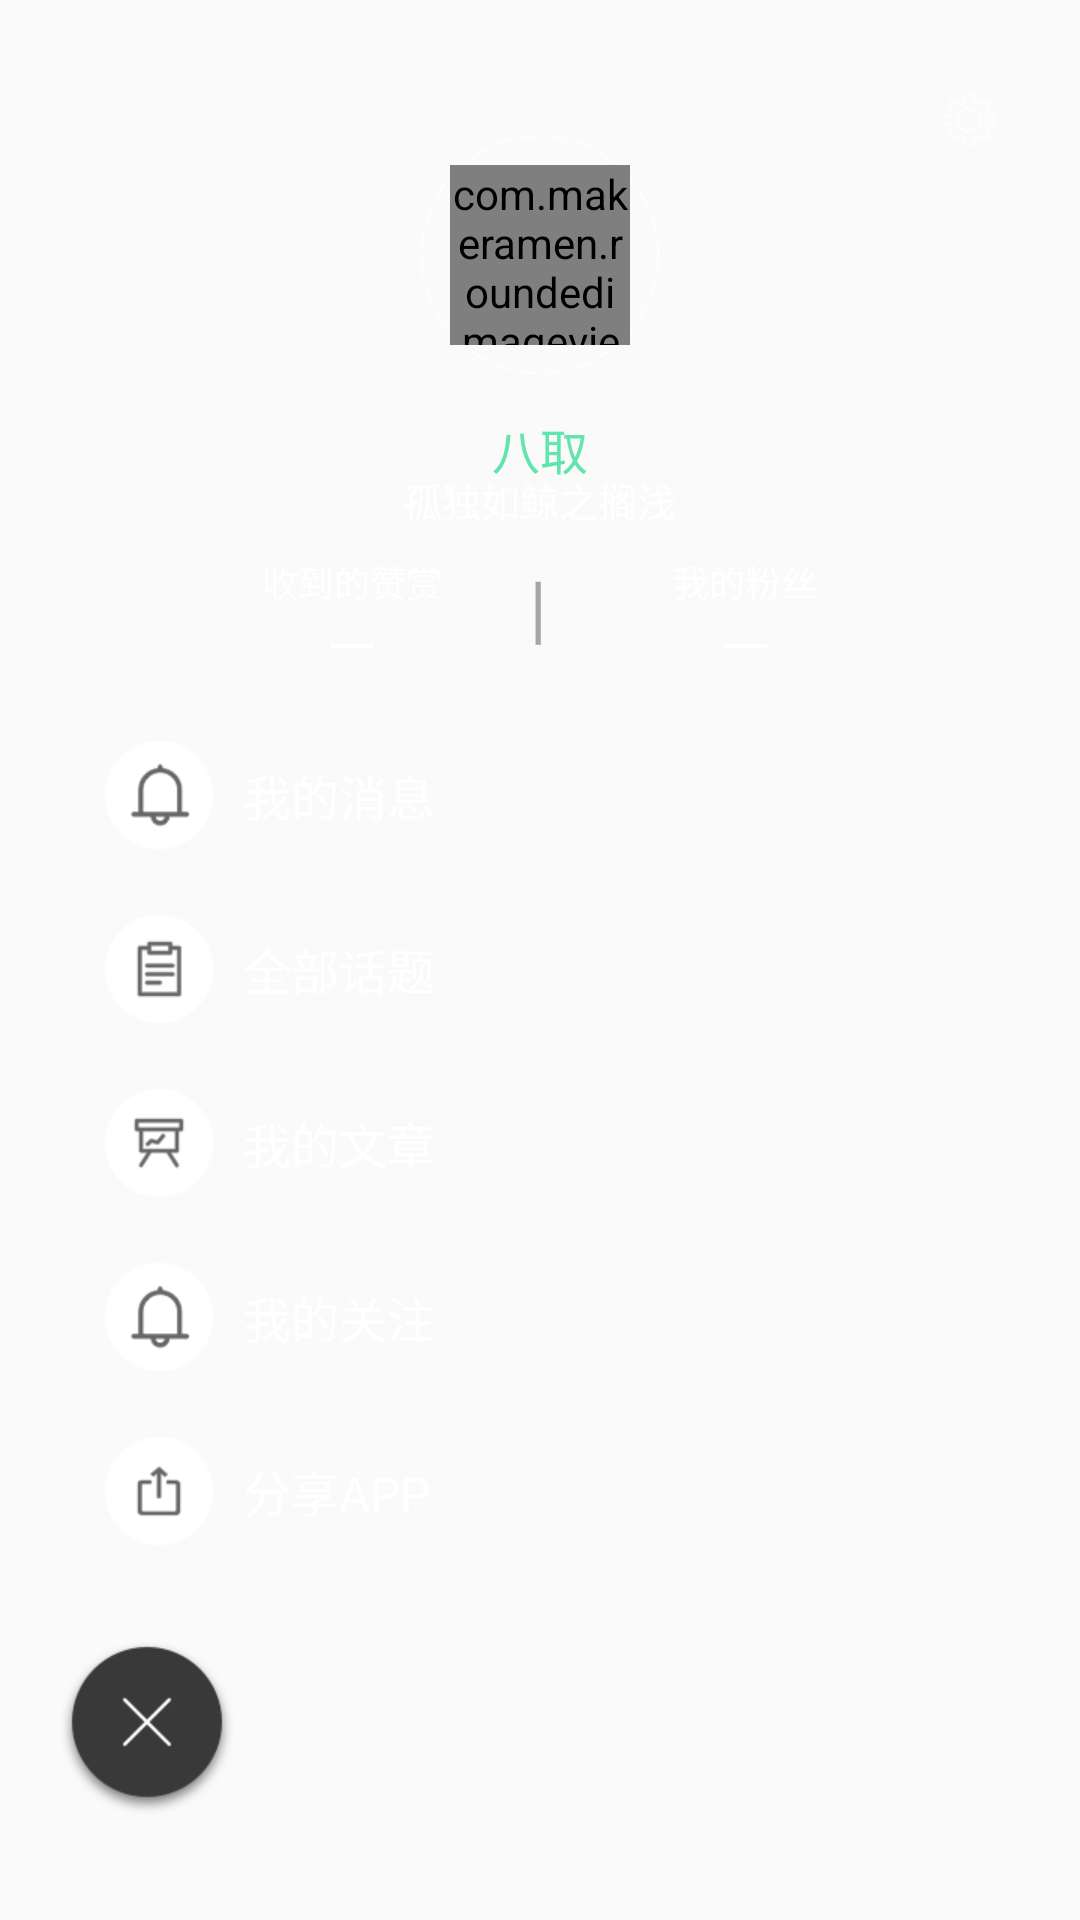

Where to tap for icons on this 1080px×1920px app screen, as point (x, y):
guanbi: point (147, 1727)
